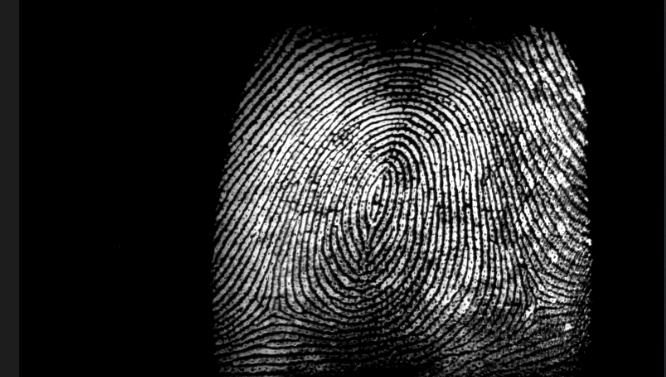nucelo: (370, 170, 389, 226)
verticilo: (251, 293, 295, 323), (519, 286, 553, 317)
